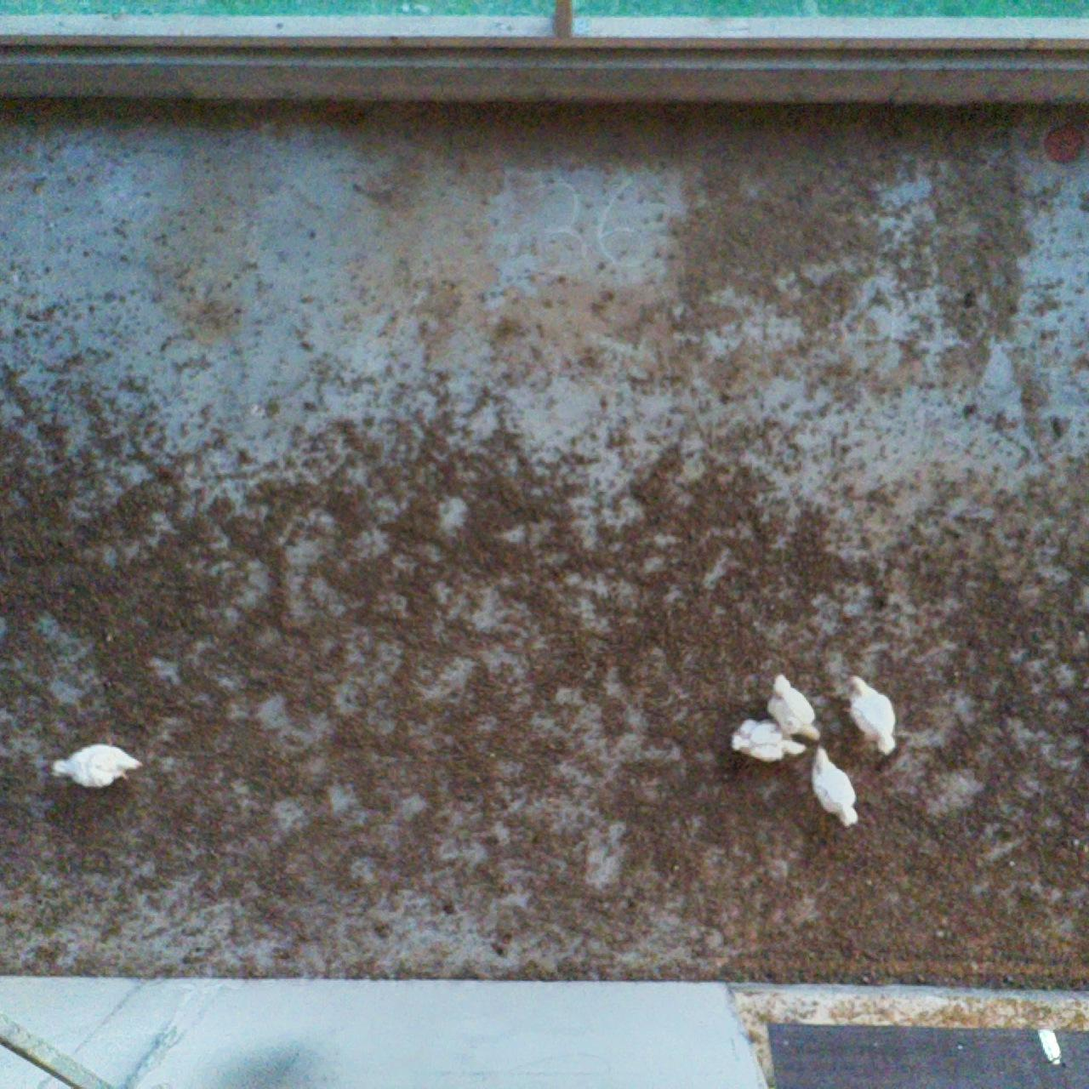chicken: (806, 745, 864, 836), (49, 738, 146, 790), (849, 670, 900, 763), (725, 711, 810, 766), (764, 665, 821, 747)
